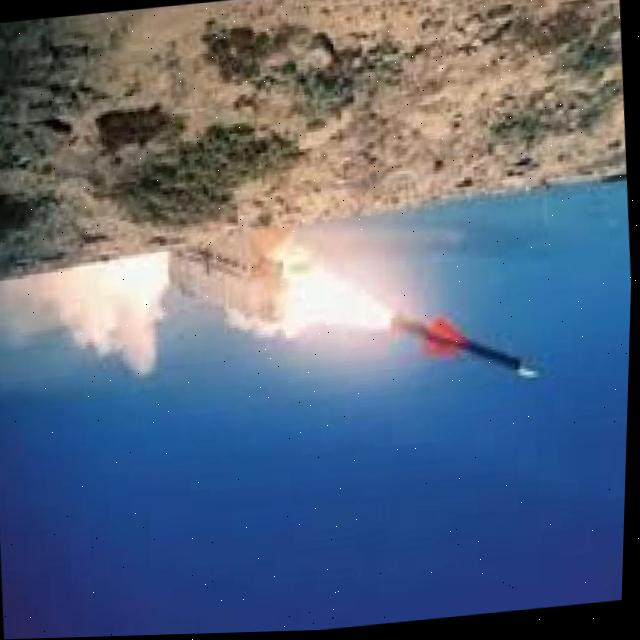missile: (388, 306, 545, 393)
